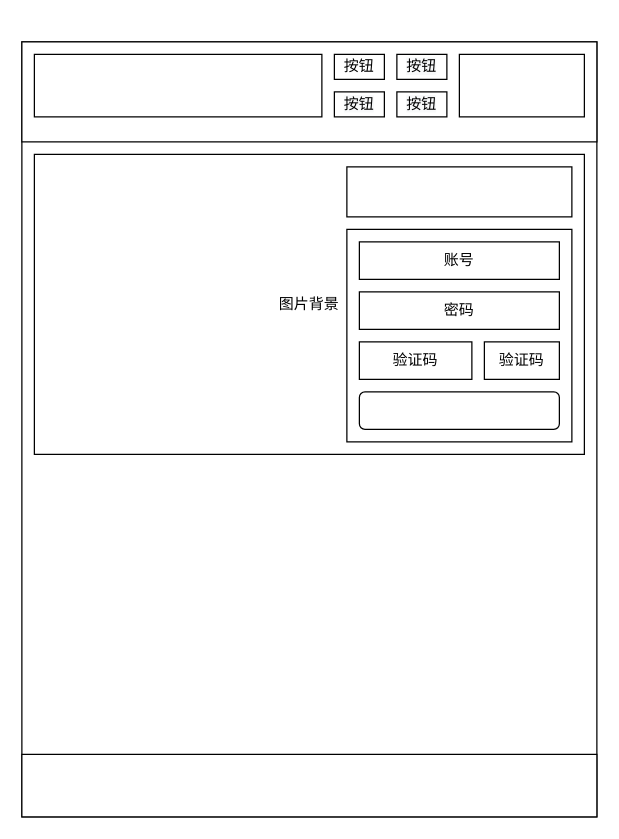
Image size: 619x839. Some labels were removed from this diagram. Here are the shapes that lost their labels. From the top down, the centre of each, then its label:
point 177,85: 网站标题（文字+图片）
point 521,85: 当前登录学生信息显示（跳转主页）
point 459,191: 学院管理员登录
point 458,410: 登录
point 309,785: 底部导航栏&联系发邮件
